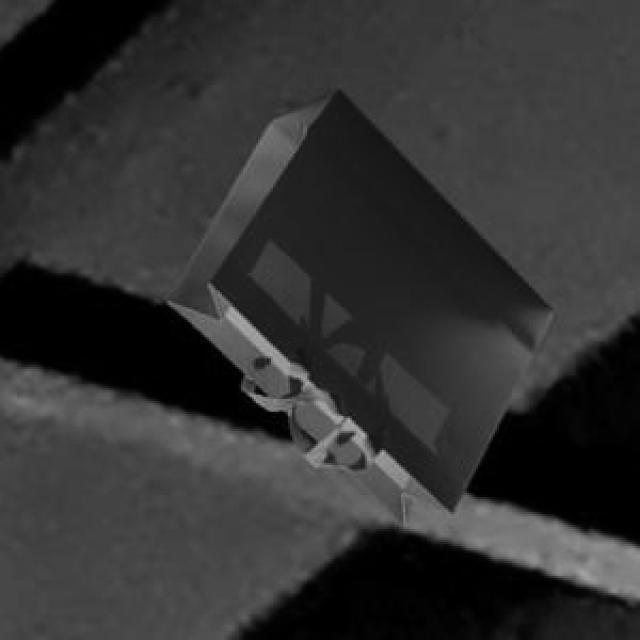paper: (164, 85, 548, 523)
